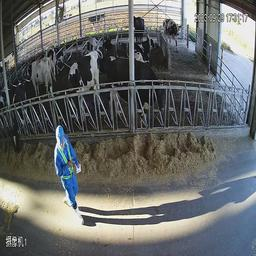cow: (105, 51, 167, 138), (54, 48, 101, 132), (7, 78, 36, 155), (23, 58, 53, 104), (134, 30, 158, 60), (169, 15, 186, 53)
